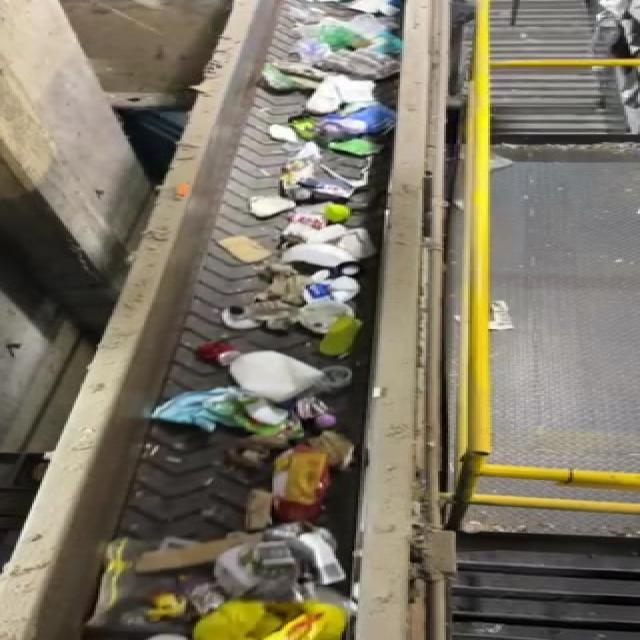hdpe: (192, 330, 337, 401)
paper: (125, 527, 348, 596), (160, 393, 327, 446), (252, 436, 335, 528)
